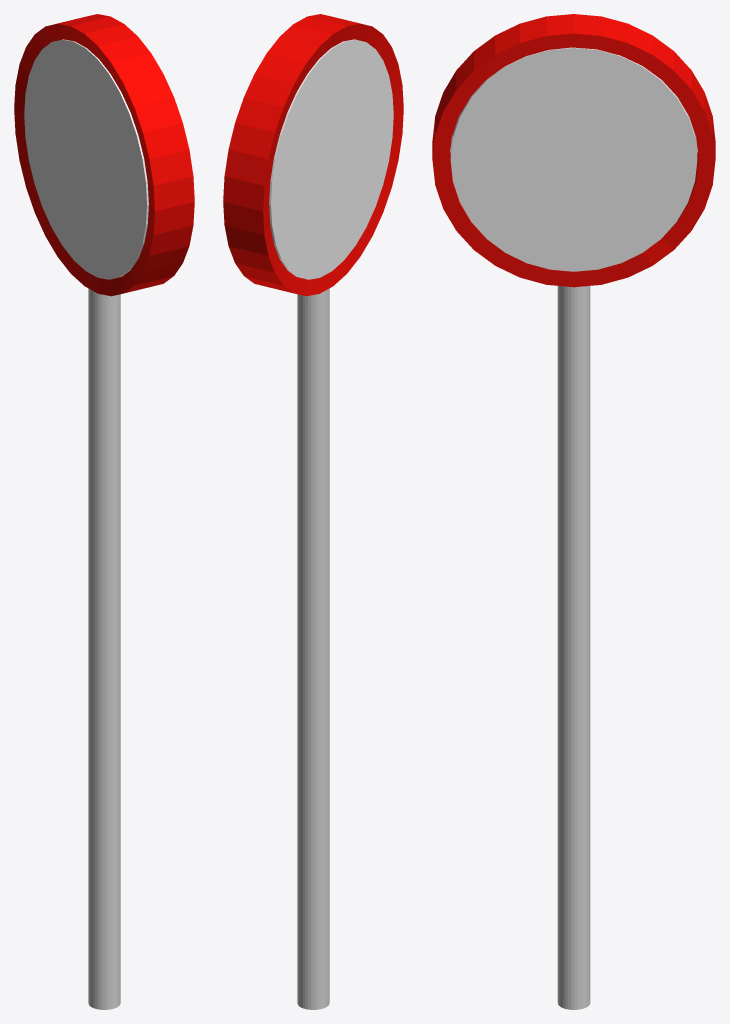
Rendered from StopSign.fbx.
The picture shows the model from 3 angles, left to right: view 1: azimuth 30°, elevation 25°; view 2: azimuth 150°, elevation 25°; view 3: azimuth 270°, elevation 25°; orthographic projection.
Visible parts, largest first — view 1: Pole, Sign, OuterSign; view 2: Pole, Sign, OuterSign; view 3: Sign, Pole, OuterSign.
Boxes of the visible parts, x1,y1,x2,y2 form: Pole: [88, 288, 120, 1009]; Sign: [24, 39, 148, 279]; OuterSign: [14, 14, 194, 296]; Pole: [297, 288, 329, 1009]; Sign: [269, 39, 393, 279]; OuterSign: [223, 14, 403, 296]; Sign: [450, 47, 697, 271]; Pole: [557, 286, 590, 1009]; OuterSign: [432, 14, 715, 287].
Size of the model in its own units: 8.59 by 200 by 52.49.
